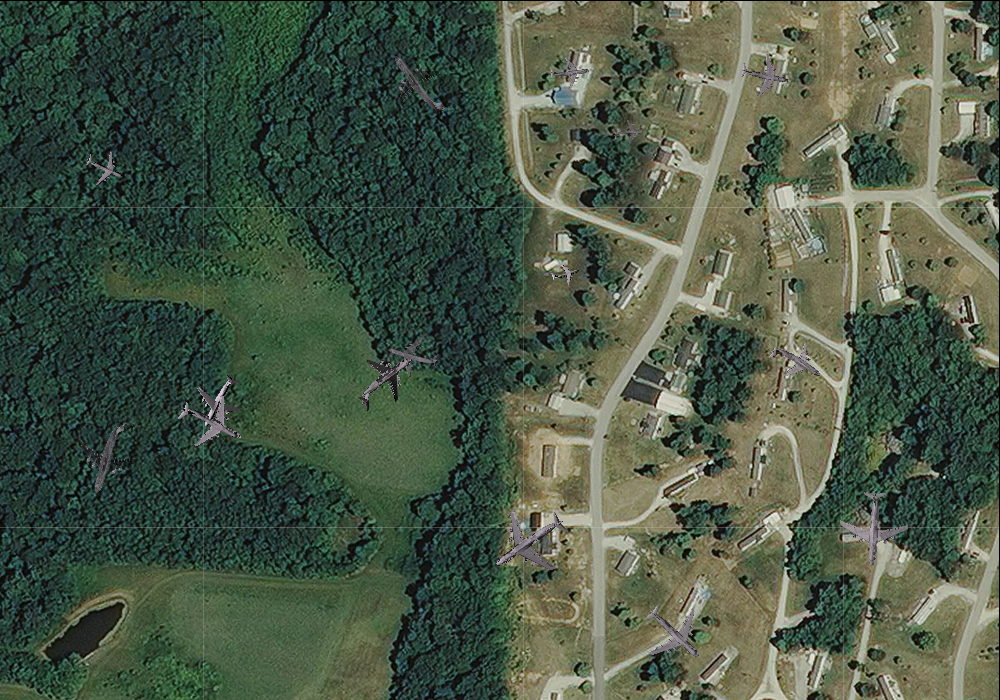plane: (475, 488, 584, 596), (372, 34, 468, 132), (628, 588, 720, 680), (65, 410, 154, 503), (340, 336, 431, 425), (166, 380, 254, 467), (835, 488, 911, 568), (182, 364, 256, 438), (760, 327, 832, 397), (382, 325, 444, 386), (736, 47, 793, 102), (78, 142, 131, 193), (547, 50, 591, 92), (548, 256, 583, 290), (613, 117, 645, 148)
